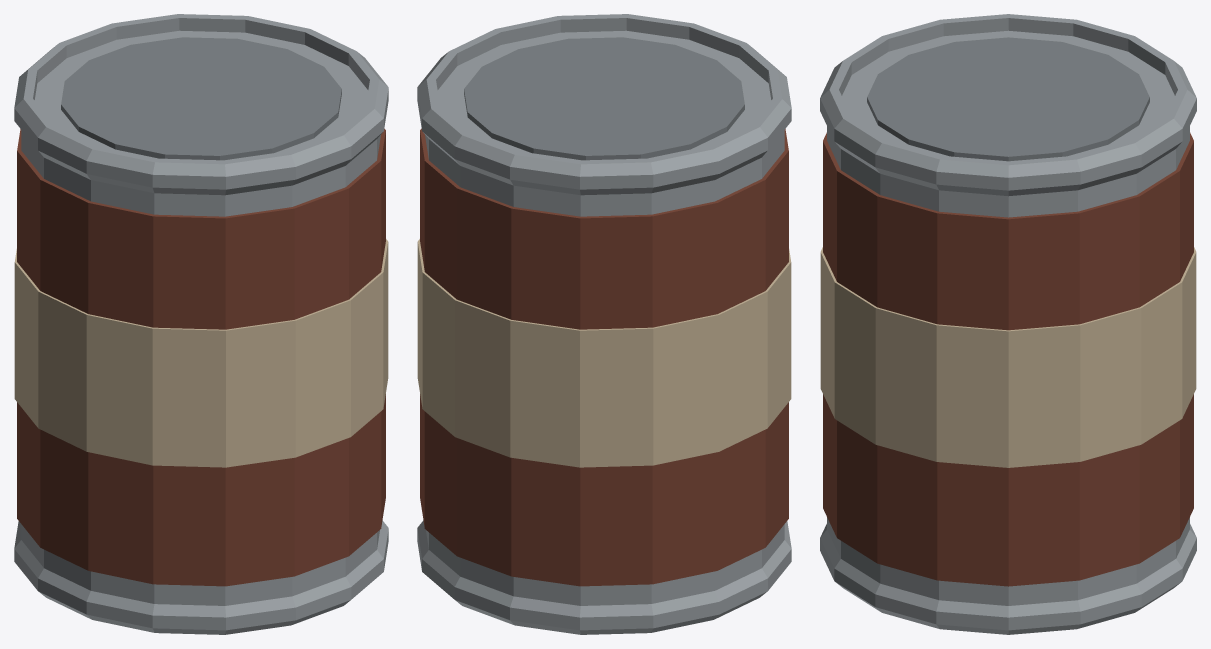
Rendered from conserve.glb.
The picture shows the model from 3 angles, left to right: view 1: azimuth 30°, elevation 25°; view 2: azimuth 150°, elevation 25°; view 3: azimuth 270°, elevation 25°; orthographic projection.
Visible parts, largest first — view 1: label, can, band, lid; view 2: label, can, band, lid; view 3: label, can, band, lid.
Boxes of the visible parts, bbox=[...] form: label: bbox=[17, 128, 385, 586]; can: bbox=[14, 14, 388, 634]; band: bbox=[14, 239, 388, 467]; lid: bbox=[61, 37, 341, 160]; label: bbox=[420, 128, 788, 586]; can: bbox=[417, 14, 791, 634]; band: bbox=[417, 239, 791, 467]; lid: bbox=[464, 37, 744, 160]; label: bbox=[823, 132, 1193, 586]; can: bbox=[820, 14, 1196, 634]; band: bbox=[820, 247, 1196, 467]; lid: bbox=[867, 37, 1149, 161].
Size of the model in its own units: 0.08 by 0.11 by 0.08.
Materials: 4 (4 with a texture image).
